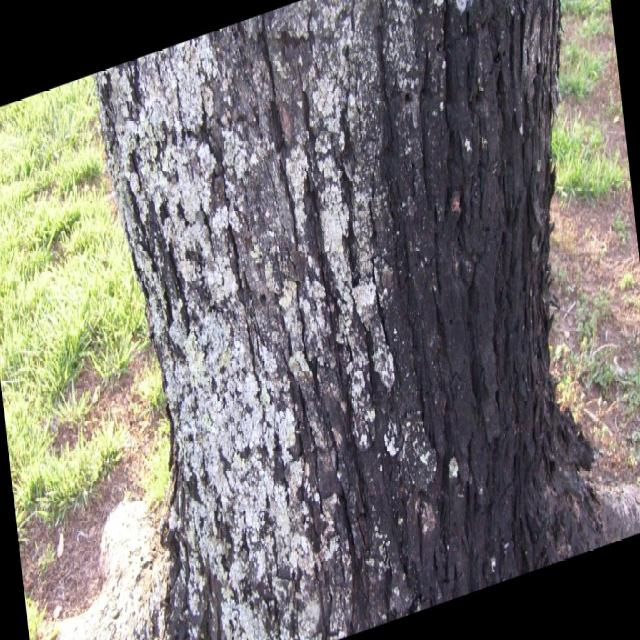Sooty Mold: (90, 0, 624, 637)
